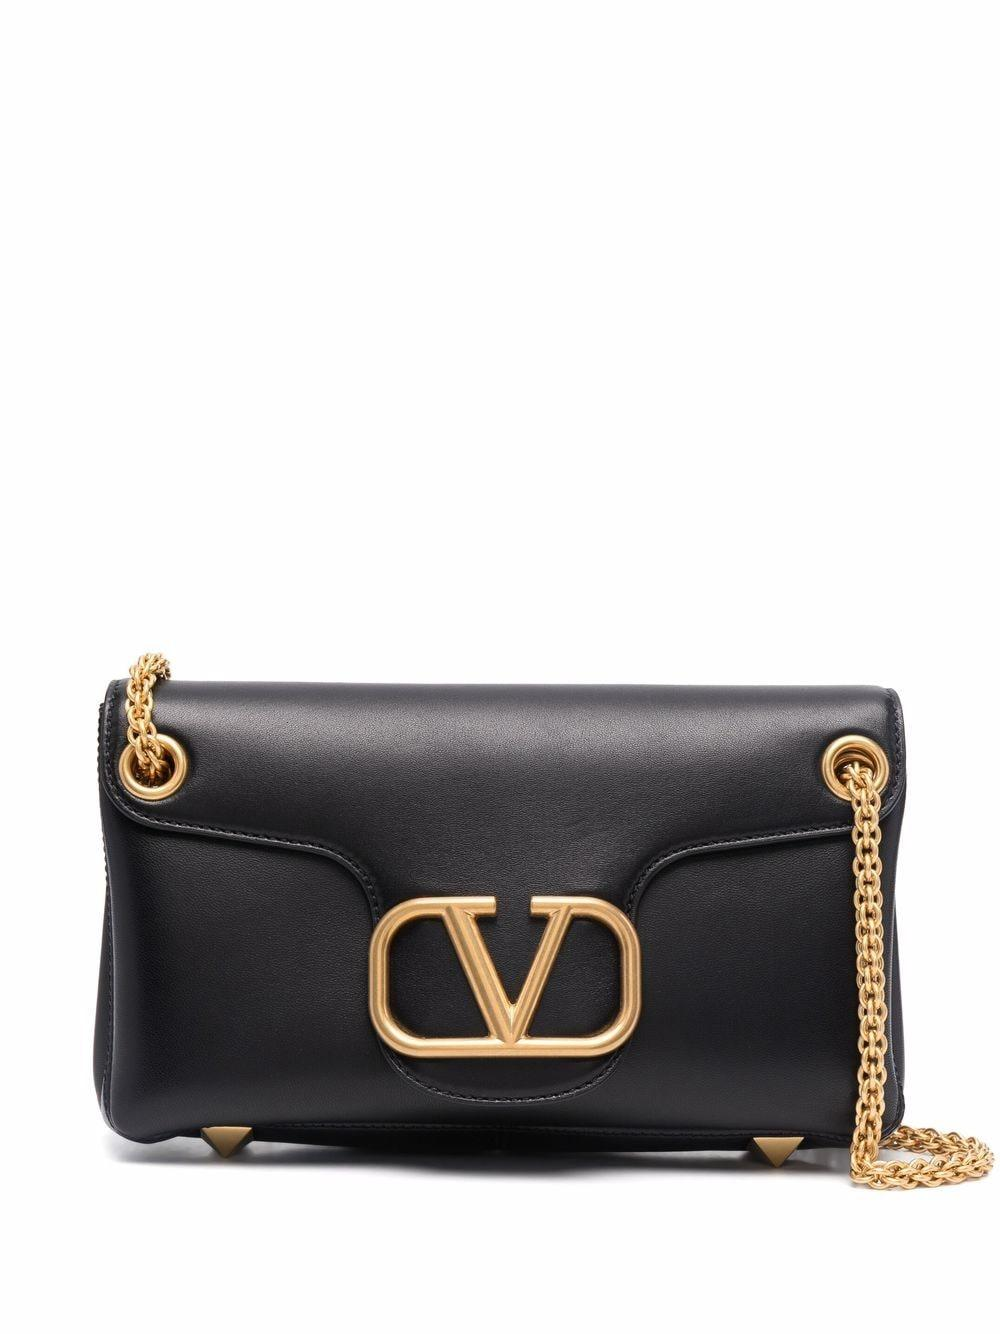VALENTINO: (369, 895, 641, 1058)
